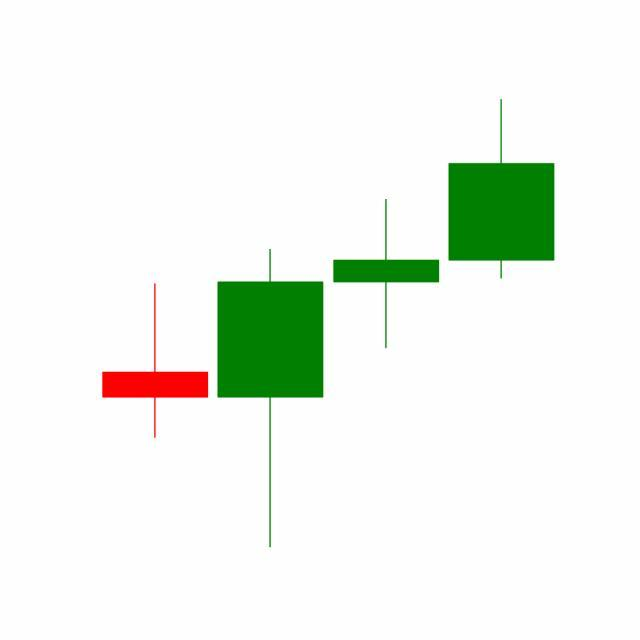Spinning Top: (329, 198, 445, 351)
